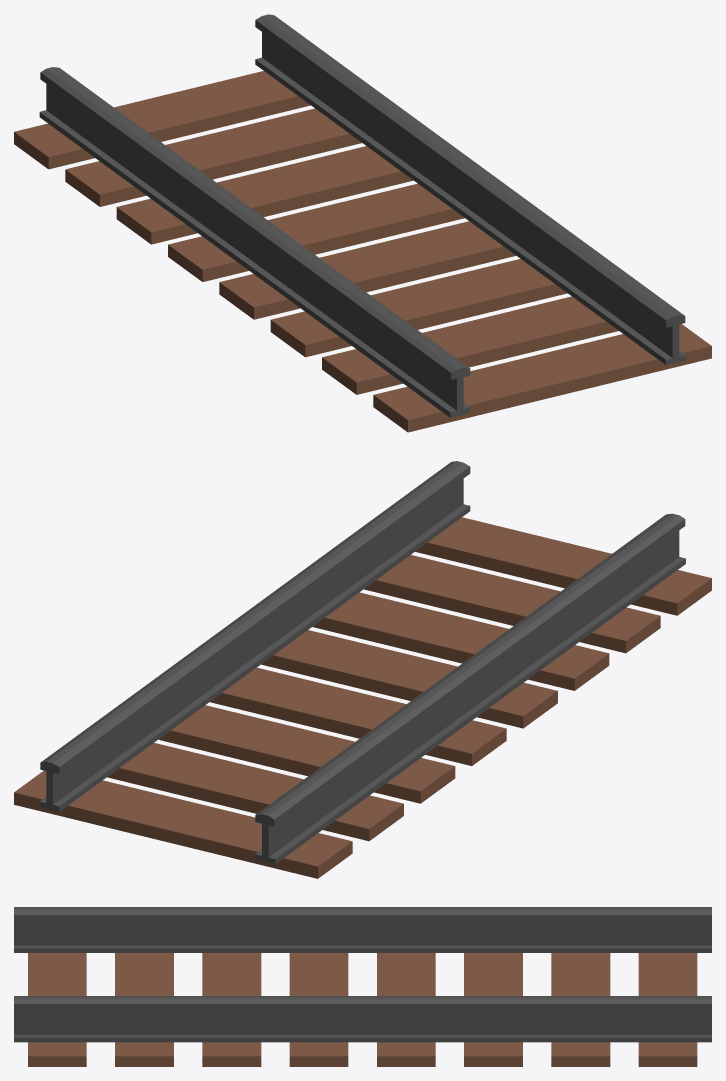
3 renders of one model, top to bottom at view 1: azimuth 30°, elevation 25°; view 2: azimuth 150°, elevation 25°; view 3: azimuth 270°, elevation 25°, orthographic. The views are drawn at different scales.
Visible parts, largest first — view 1: Cube; view 2: Cube; view 3: Cube.
Part boxes in pixels (x1,y1,x2,y2): Cube: (14,14,711,432); Cube: (14,461,711,878); Cube: (14,907,711,1066).
Bounding box in the file's own units: 1014 × 189 × 2373.
